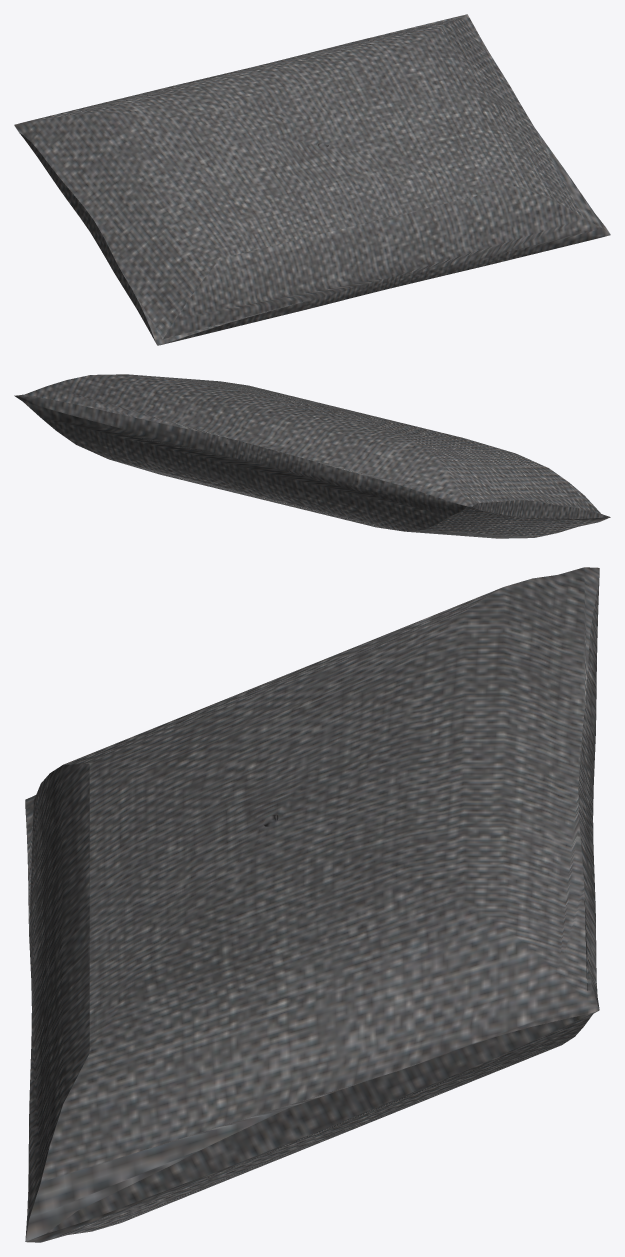
Rendered from pillow2.glb.
3 views of the same model, one above another, from view 1: azimuth 30°, elevation 25°; view 2: azimuth 150°, elevation 25°; view 3: azimuth 270°, elevation 25° (orthographic). The views are drawn at different scales.
Visible parts, largest first — view 1: Pillow1; view 2: Pillow1; view 3: Pillow1.
Boxes of the visible parts, left/top/right/bottom form: Pillow1: left=14, top=14, right=610, bottom=345; Pillow1: left=14, top=374, right=610, bottom=538; Pillow1: left=25, top=567, right=599, bottom=1242.
Bounding box in the file's own units: 0.4148 × 0.1295 × 0.2274.
Materials: 1 (1 with a texture image).
